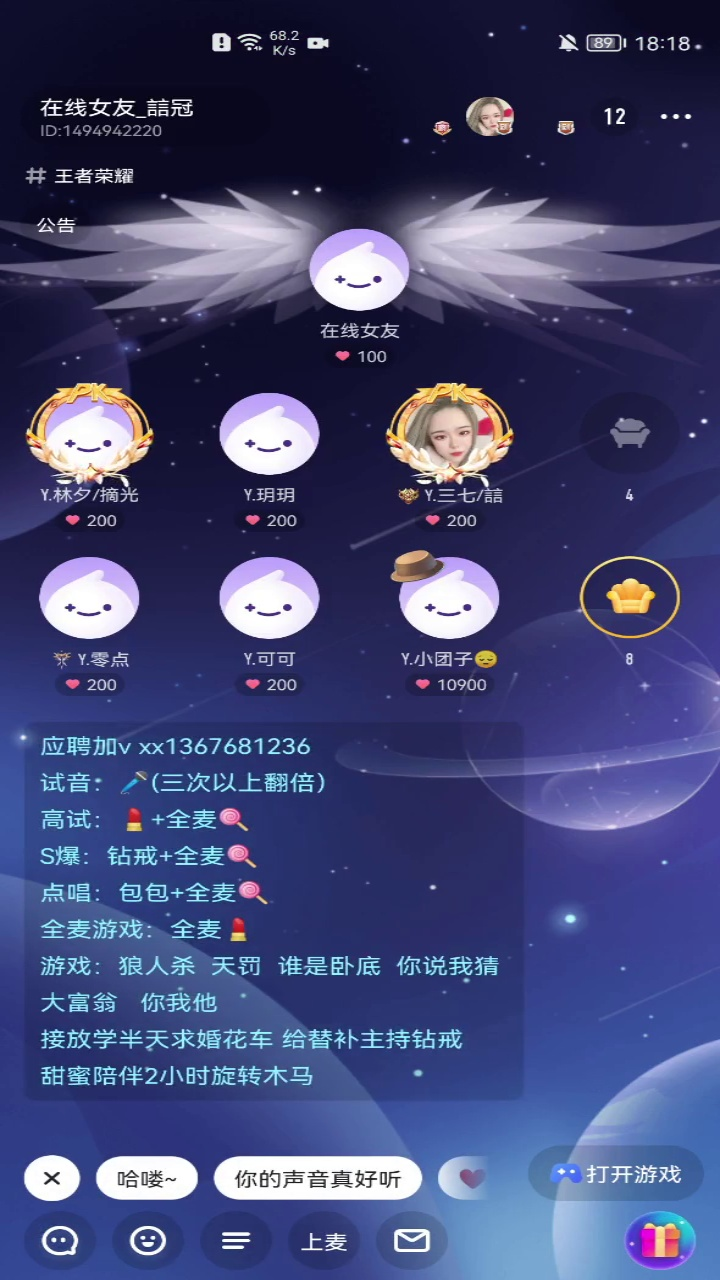avatar: (28, 381, 161, 489), (387, 545, 503, 642), (33, 557, 145, 644), (307, 225, 416, 313), (217, 392, 321, 480), (219, 554, 325, 640)
